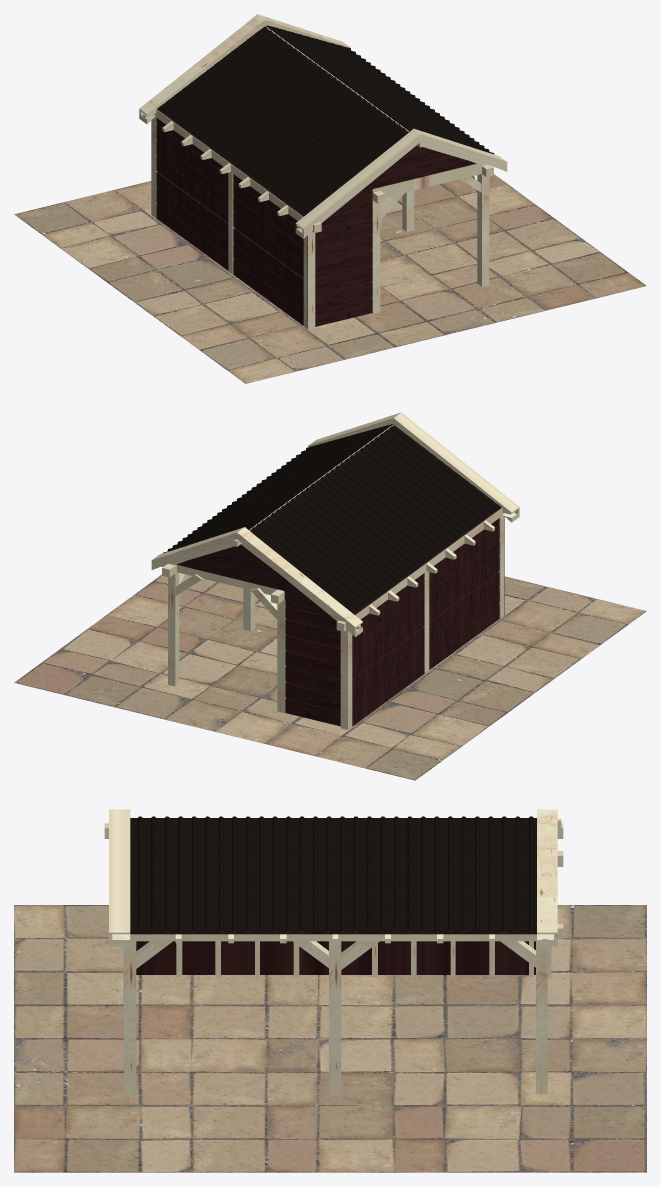
The model's file is Kabschuur-transformed.glb.
3 views of the same model, one above another, from view 1: azimuth 30°, elevation 25°; view 2: azimuth 150°, elevation 25°; view 3: azimuth 270°, elevation 25° (orthographic). The views are drawn at different scales.
Parts seen in each view (by area): view 1: Plane.012, Plane.010, Plane.009, Cube.040; view 2: Plane.012, Plane.010, Plane.009, Cube.040; view 3: Plane.012, Plane.010, Cube.040, Plane.009.
Boxes of the visible parts, x1,y1,x2,y2 form: Plane.012: (14, 174, 646, 383); Plane.010: (158, 25, 494, 215); Plane.009: (156, 108, 476, 328); Cube.040: (139, 14, 507, 329); Plane.012: (14, 574, 646, 780); Plane.010: (163, 424, 500, 613); Plane.009: (176, 507, 504, 726); Cube.040: (151, 412, 519, 729); Plane.012: (14, 905, 646, 1172); Plane.010: (130, 816, 536, 931); Cube.040: (104, 809, 563, 1094); Plane.009: (130, 930, 536, 974).
Bounding box in the file's own units: 4.78 × 1.99 × 4.78.
Materials: 4 (4 with a texture image).
